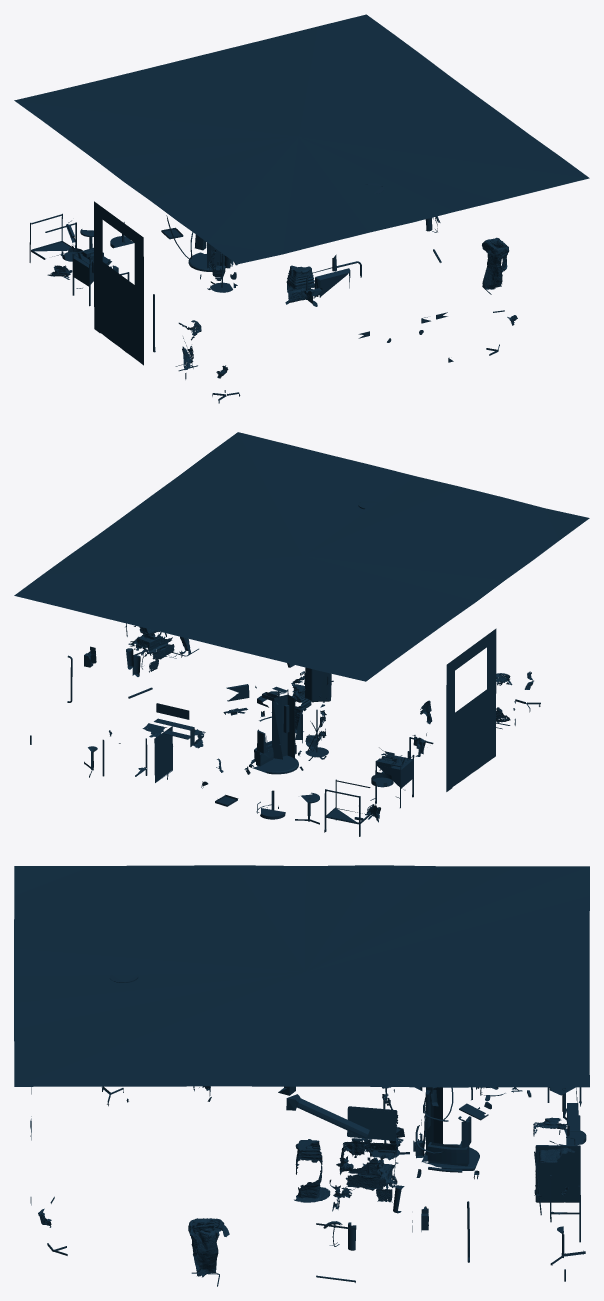
File: charite_university_hospital_-_operating_room_0.obj
3 views of the same model, one above another, from view 1: azimuth 30°, elevation 25°; view 2: azimuth 150°, elevation 25°; view 3: azimuth 270°, elevation 25° (orthographic). The views are drawn at different scales.
Bounding box in the file's own units: 5.95 × 2.77 × 6.53.
